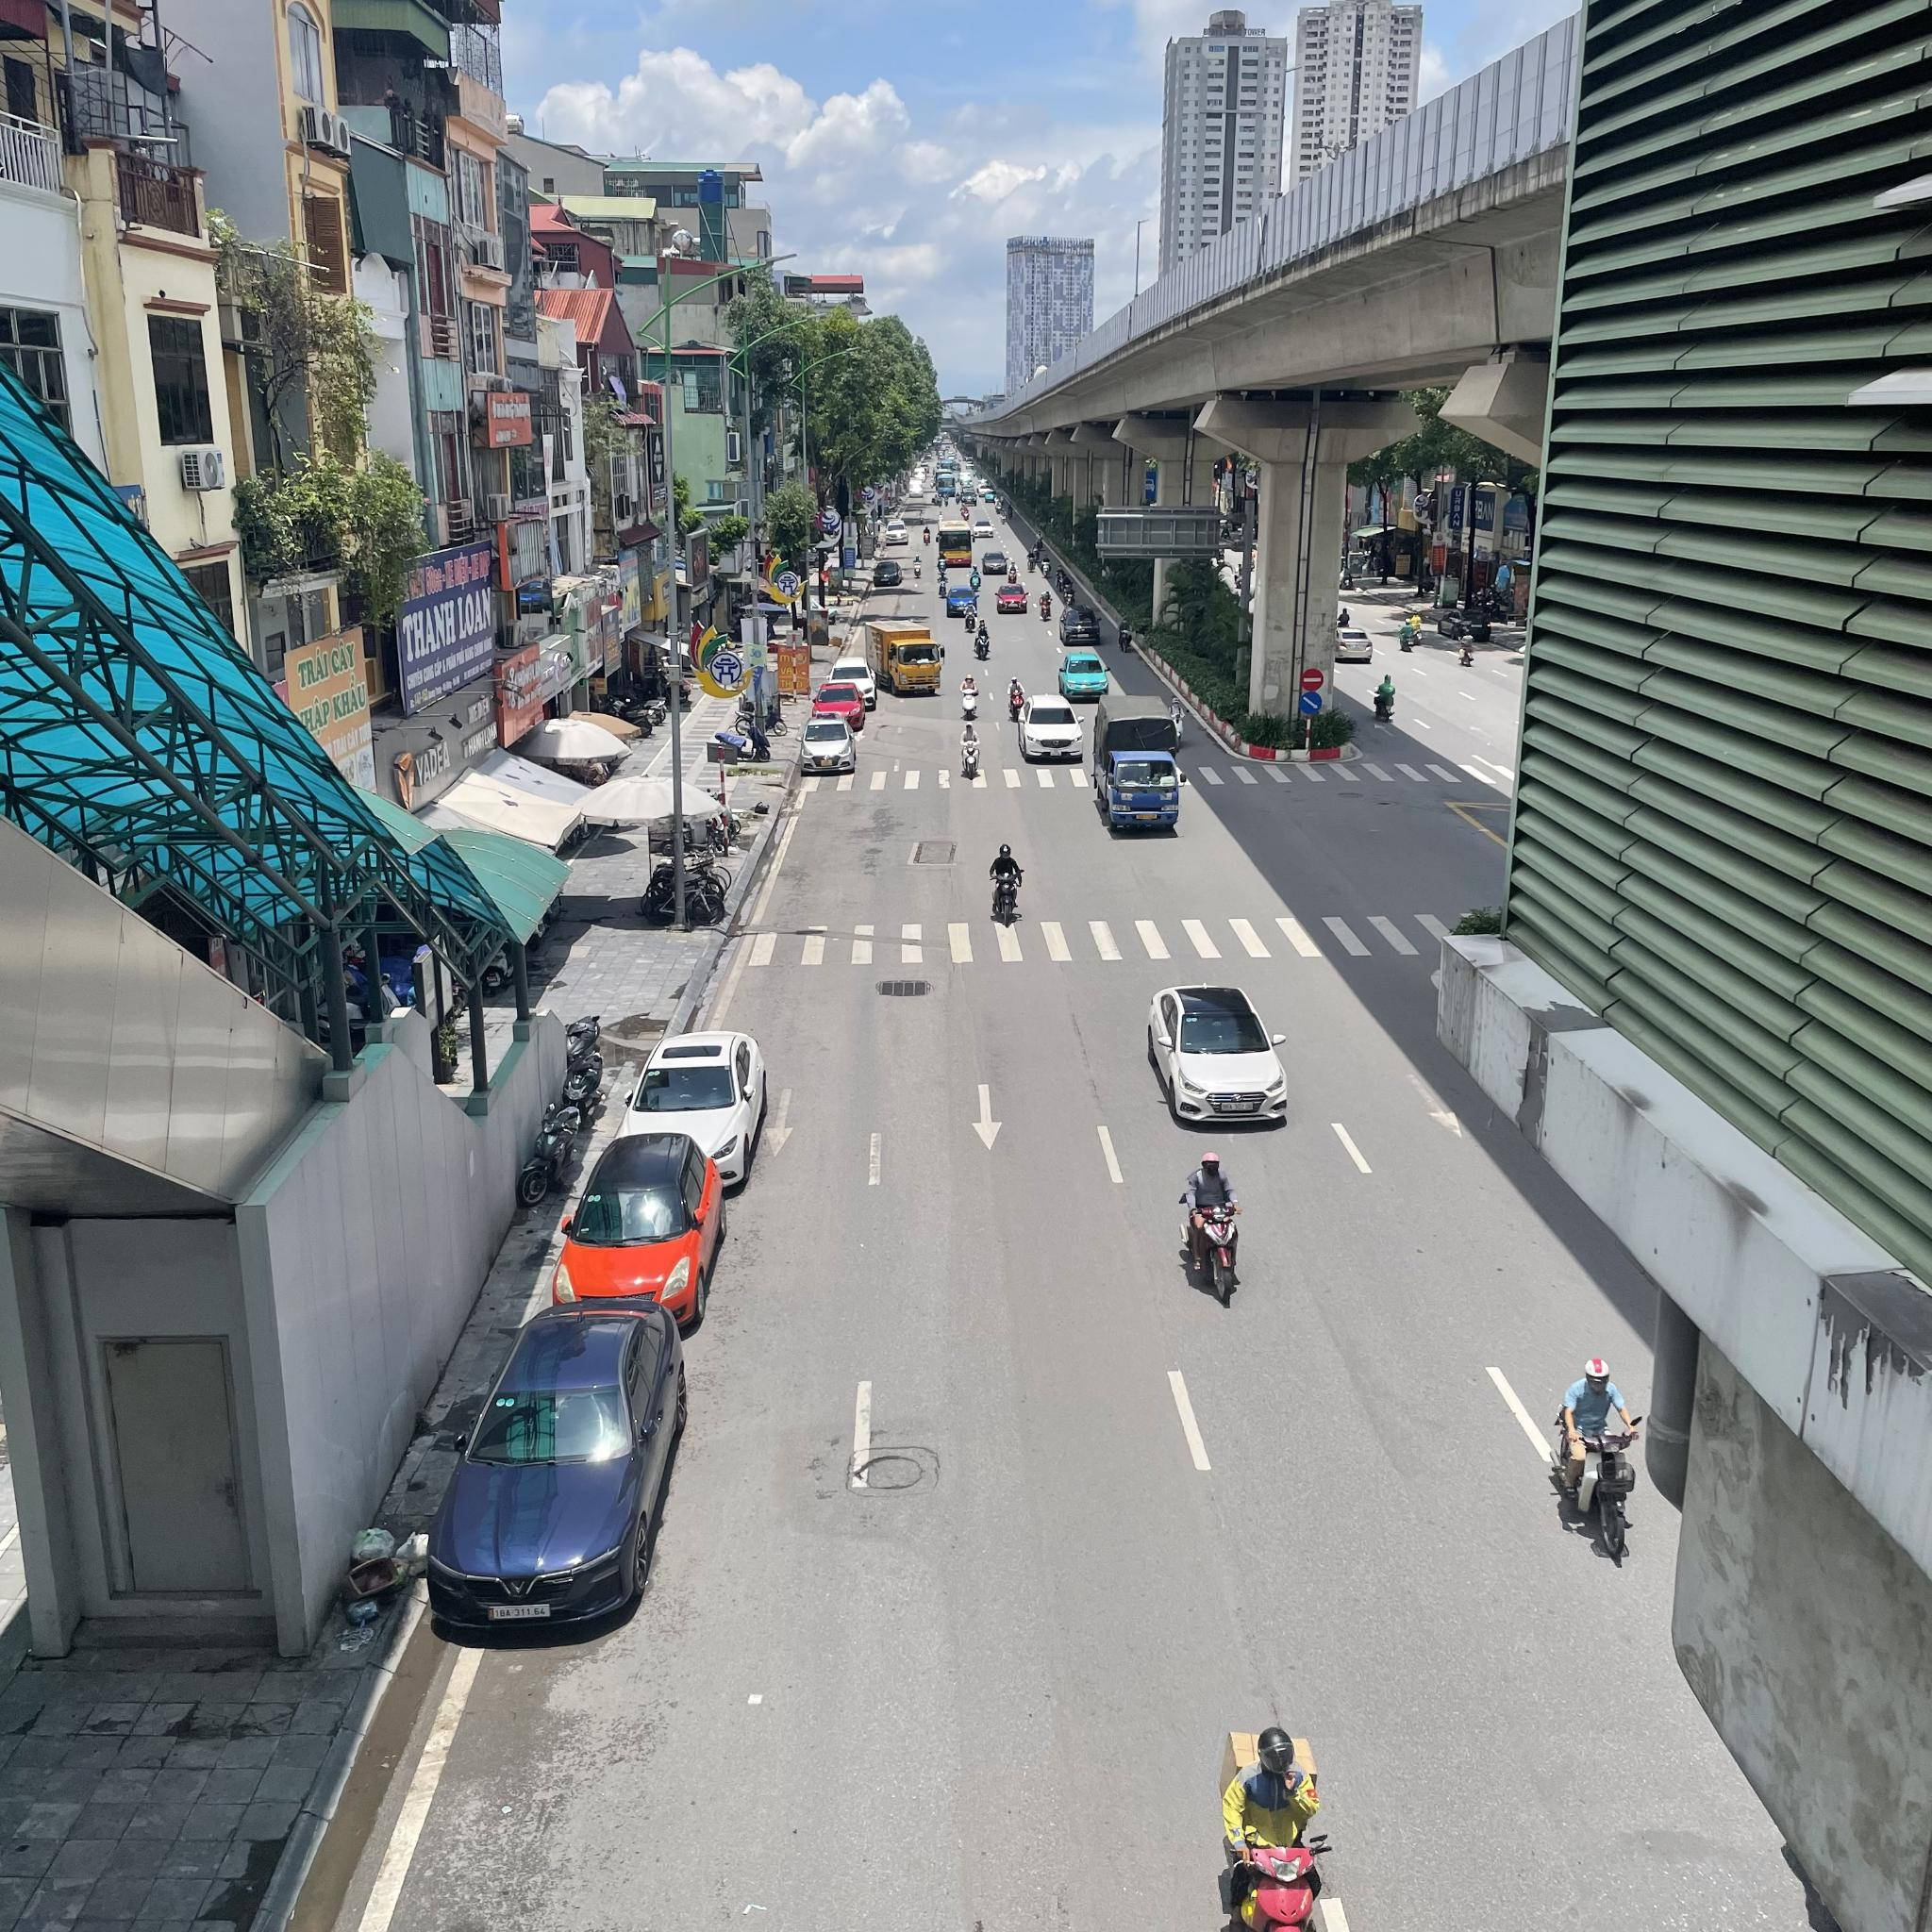car: (425, 1299, 693, 1635), (1143, 978, 1294, 1131), (1094, 699, 1179, 836), (867, 621, 940, 693), (1018, 696, 1083, 760), (1058, 655, 1109, 701), (1063, 604, 1100, 645), (997, 584, 1029, 614)
motobike: (1540, 1355, 1644, 1568), (1182, 1148, 1248, 1300), (991, 847, 1024, 929), (959, 722, 980, 778), (960, 675, 979, 718), (975, 619, 991, 662), (1118, 617, 1134, 653), (1041, 591, 1053, 622), (1007, 559, 1022, 583), (910, 554, 923, 578), (936, 573, 947, 598), (971, 565, 980, 592), (1041, 555, 1052, 577)
